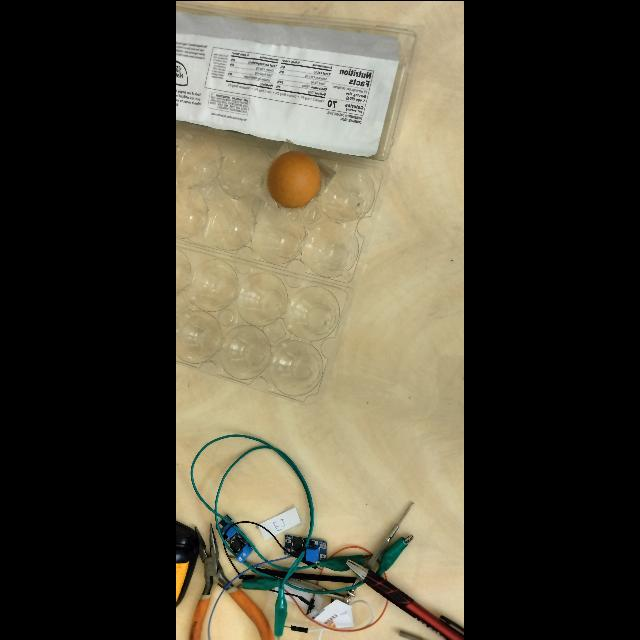Egg: (258, 144, 330, 218)
